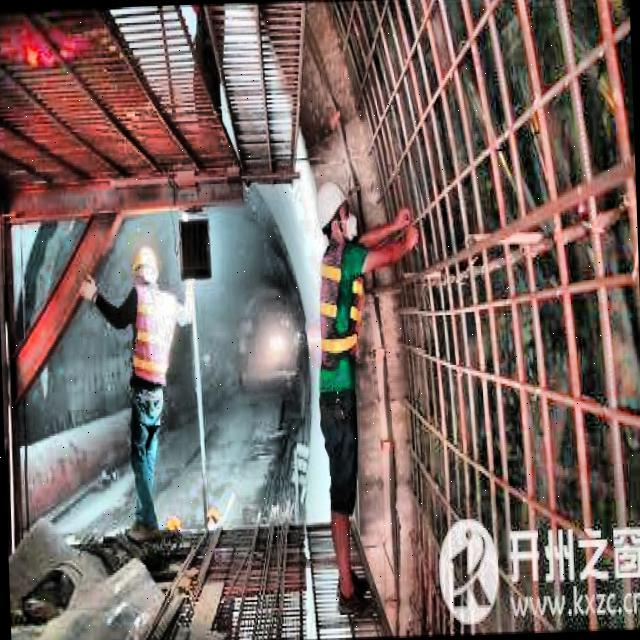helmet: (314, 174, 358, 248), (128, 238, 162, 300)
